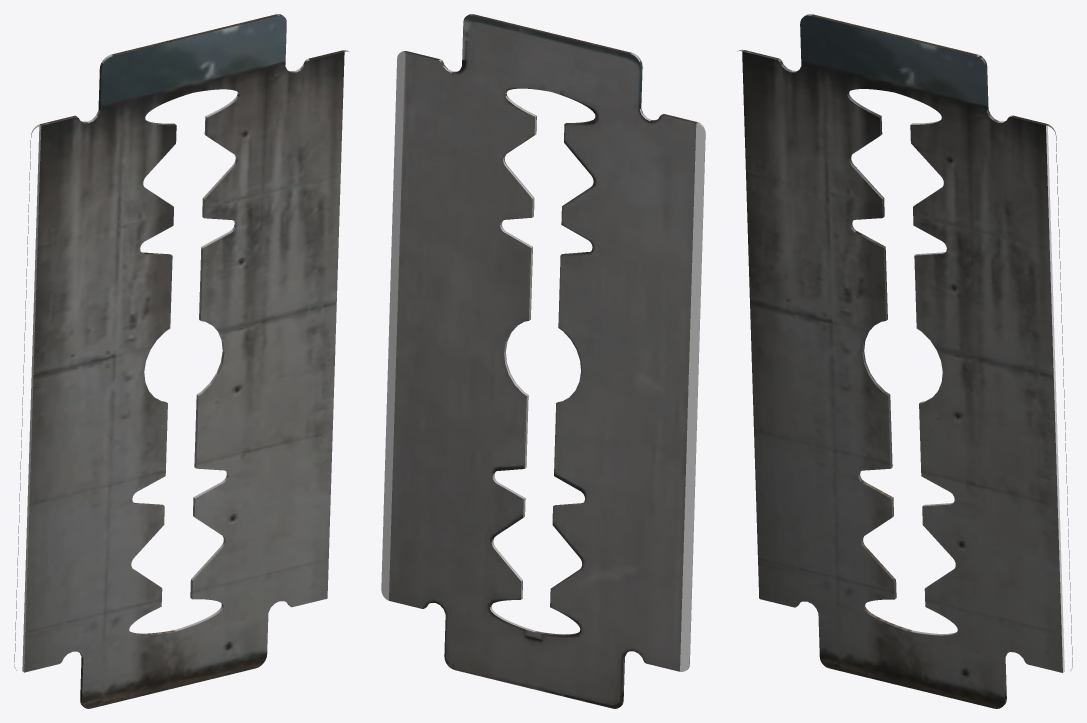
The model's file is preview.glb.
The picture shows the model from 3 angles, left to right: view 1: azimuth 30°, elevation 25°; view 2: azimuth 150°, elevation 25°; view 3: azimuth 330°, elevation 25°; orthographic projection. The views are drawn at different scales.
Parts seen in each view (by area): view 1: Material2 (×2); view 2: Material2 (×2); view 3: Material2 (×2).
Boxes of the visible parts, <box> form: Material2 (×2): <box>14,14,348,708</box>; Material2 (×2): <box>381,14,705,708</box>; Material2 (×2): <box>737,14,1072,708</box>.
Bounding box in the file's own units: 59.45 × 118 × 7.1.
Materials: 2 (1 with a texture image).
